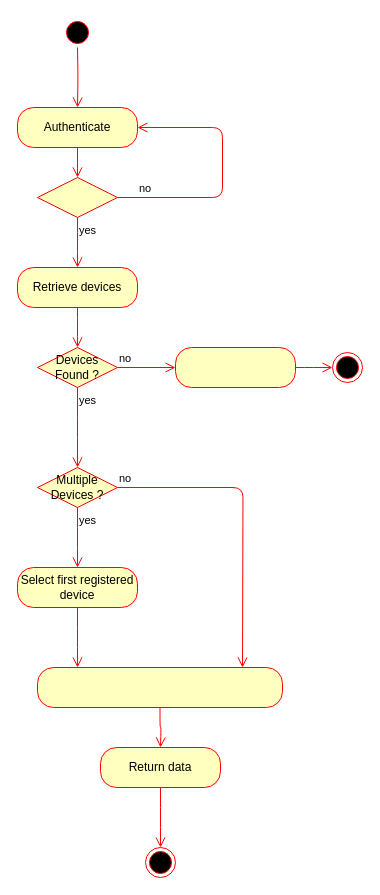
Some shapes in this 380 by 895 pixel diagram are drawn without their labels. Here are the shapes that lost their labels. From the top down, the centre of each, then its label:
point 77,197: Authentication OK ?
point 235,367: Return Error
point 159,687: Fetch device data
